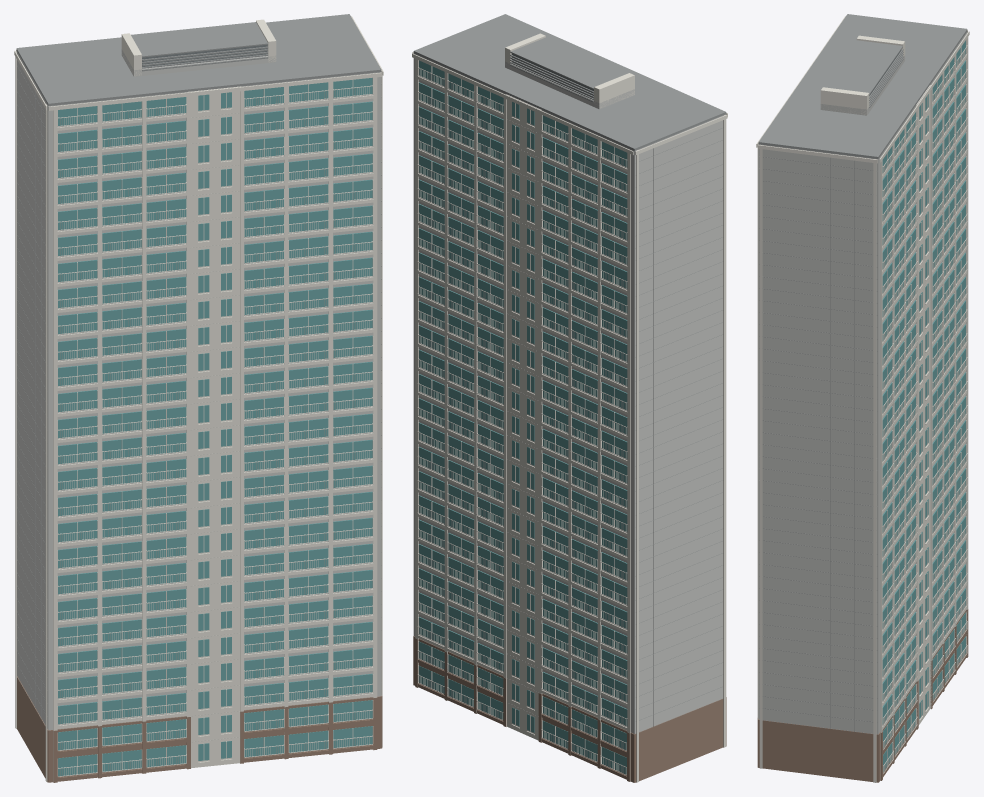
File: bespoke-jamsil-els-135.glb
The picture shows the model from 3 angles, left to right: view 1: azimuth 30°, elevation 25°; view 2: azimuth 150°, elevation 25°; view 3: azimuth 270°, elevation 25°; orthographic projection. The views are drawn at different scales.
Parts seen in each view (by area): view 1: Els135_editable_Els135_turquoise_balcony_glazing, Els135_editable_Els135_light_grey_solid_wall, Els135_white_exact_chunk_2, Els135_white_exact_chunk_3, Els135_white_exact_chunk_4, Els135_editable_Els135_modest_grey_flat_roof_caps, Els135_editable_Els135_muted_ground_wall, Els135_editable_Els135_narrow_charcoal_service_strips; view 2: Els135_editable_Els135_turquoise_balcony_glazing, Els135_editable_Els135_light_grey_solid_wall, Els135_white_exact_chunk_0, Els135_white_exact_chunk_1, Els135_editable_Els135_modest_grey_flat_roof_caps, Els135_white_exact_chunk_2, Els135_editable_Els135_muted_ground_wall, Els135_white_exact_chunk_4; view 3: Els135_editable_Els135_light_grey_solid_wall, Els135_editable_Els135_turquoise_balcony_glazing, Els135_editable_Els135_modest_grey_flat_roof_caps, Els135_white_exact_chunk_0, Els135_white_exact_chunk_1, Els135_white_exact_chunk_2, Els135_white_exact_chunk_4, Els135_editable_Els135_muted_ground_wall.
Boxes of the visible parts, x1,y1,x2,y2 form: Els135_editable_Els135_turquoise_balcony_glazing: (58,78,372,776); Els135_editable_Els135_light_grey_solid_wall: (16,49,381,742); Els135_white_exact_chunk_2: (14,49,241,781); Els135_white_exact_chunk_3: (53,87,328,782); Els135_white_exact_chunk_4: (48,16,383,763); Els135_editable_Els135_modest_grey_flat_roof_caps: (16,14,381,726); Els135_editable_Els135_muted_ground_wall: (17,676,382,782); Els135_editable_Els135_narrow_charcoal_service_strips: (142,44,267,66); Els135_editable_Els135_turquoise_balcony_glazing: (419,60,627,774); Els135_editable_Els135_light_grey_solid_wall: (413,53,726,733); Els135_white_exact_chunk_0: (417,60,541,740); Els135_white_exact_chunk_1: (415,55,627,775); Els135_editable_Els135_modest_grey_flat_roof_caps: (413,14,726,731); Els135_white_exact_chunk_2: (412,53,727,782); Els135_editable_Els135_muted_ground_wall: (413,636,726,782); Els135_white_exact_chunk_4: (412,33,727,116); Els135_editable_Els135_light_grey_solid_wall: (758,32,967,734); Els135_editable_Els135_turquoise_balcony_glazing: (882,40,965,771); Els135_editable_Els135_modest_grey_flat_roof_caps: (758,14,967,733); Els135_white_exact_chunk_0: (882,85,930,773); Els135_white_exact_chunk_1: (880,56,967,780); Els135_white_exact_chunk_2: (879,30,969,708); Els135_white_exact_chunk_4: (756,16,905,782); Els135_editable_Els135_muted_ground_wall: (757,609,968,782).
Size of the model in its own units: 35.51 by 73.8 by 22.1.
